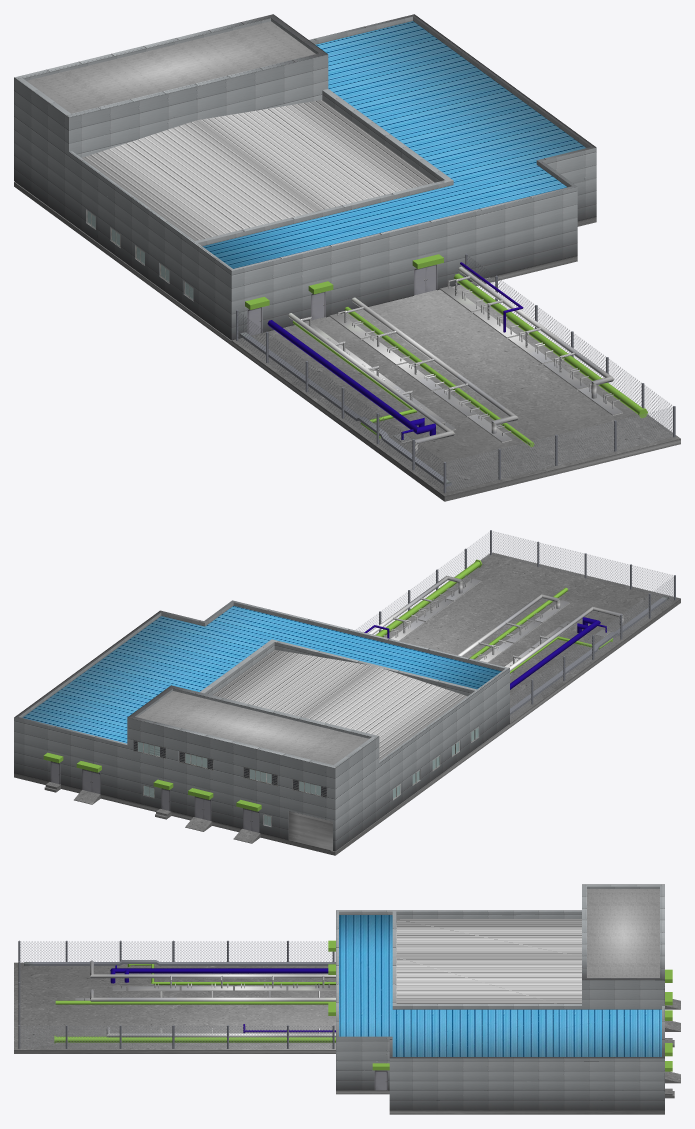
Rendered from 20-GC-OUT-waste-water-disposal.glb.
3 renders of one model, top to bottom at view 1: azimuth 30°, elevation 25°; view 2: azimuth 150°, elevation 25°; view 3: azimuth 270°, elevation 25°, orthographic. The views are drawn at different scales.
Visible parts, largest first — view 1: Rectangle2312, Line1151, waste-water-disposal, Line2369, Line1153, waste-out-11, ROOF (1), 2F, Line1156, waste-out-01, waste-out-08, waste-out-02 (+9 smaller); view 2: Rectangle2312, Line1151, waste-water-disposal, Line2369, Line1153, 2F, ROOF (1), waste-out-11, Line1156, waste-out-01, Rectangle015, Box774 (+10 smaller); view 3: Rectangle2312, Line1151, Line2369, waste-water-disposal, waste-out-11, Line1153, ROOF (1), Line1156, 2F, waste-out-08, waste-out-01, waste-out-04 (+7 smaller).
Boxes of the visible parts, left/top/right/bottom form: Rectangle2312: left=14, top=182, right=680, bottom=501; Line1151: left=202, top=21, right=585, bottom=268; waste-water-disposal: left=14, top=128, right=596, bottom=340; Line2369: left=82, top=100, right=434, bottom=240; Line1153: left=69, top=14, right=596, bottom=287; waste-out-11: left=236, top=253, right=675, bottom=493; ROOF (1): left=26, top=21, right=315, bottom=113; 2F: left=14, top=63, right=328, bottom=168; Line1156: left=14, top=14, right=328, bottom=125; waste-out-01: left=304, top=286, right=622, bottom=442; waste-out-08: left=448, top=273, right=647, bottom=418; waste-out-02: left=239, top=332, right=451, bottom=486; Rectangle2312: left=14, top=552, right=680, bottom=855; Line1151: left=22, top=606, right=501, bottom=794; waste-water-disposal: left=14, top=681, right=509, bottom=851; Line2369: left=213, top=649, right=467, bottom=760; Line1153: left=14, top=600, right=509, bottom=776; 2F: left=127, top=724, right=379, bottom=808; ROOF (1): left=137, top=691, right=368, bottom=764; waste-out-11: left=356, top=530, right=675, bottom=719; Line1156: left=127, top=685, right=379, bottom=774; waste-out-01: left=391, top=578, right=610, bottom=667; Rectangle015: left=133, top=740, right=327, bottom=798; Box774: left=50, top=761, right=259, bottom=832; Rectangle2312: left=14, top=962, right=680, bottom=1114; Line1151: left=339, top=915, right=661, bottom=1056; Line2369: left=396, top=919, right=581, bottom=1003; waste-water-disposal: left=336, top=1050, right=664, bottom=1110; waste-out-11: left=18, top=940, right=334, bottom=1048; Line1153: left=336, top=910, right=664, bottom=1070; ROOF (1): left=587, top=889, right=659, bottom=977; Line1156: left=582, top=884, right=664, bottom=986; 2F: left=582, top=986, right=664, bottom=1009; waste-out-08: left=54, top=1035, right=335, bottom=1043; waste-out-01: left=75, top=973, right=335, bottom=1043; waste-out-04: left=110, top=965, right=328, bottom=983.
Bounding box in the file's own units: 34.58 × 9 × 65.99.
Materials: 19 (18 with a texture image).
